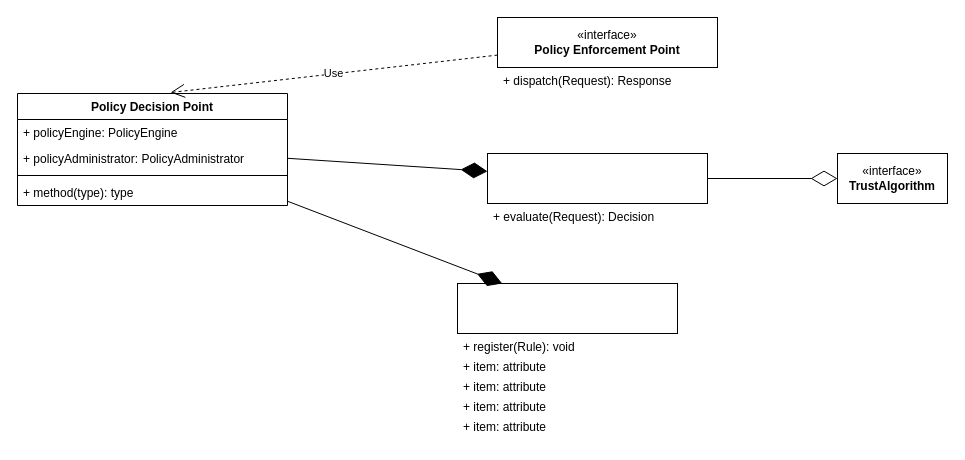
The diagram is 965 pixels wide and 460 high, and some of its shapes have lost their labels. The shapes that lost their labels are listed below. From the top down, each one's box as (x1, y1, x2, y2) in pixels, then its label:
(486, 152, 708, 204): «interface» Policy Engine
(456, 282, 678, 334): «interface» Policy Administrator
